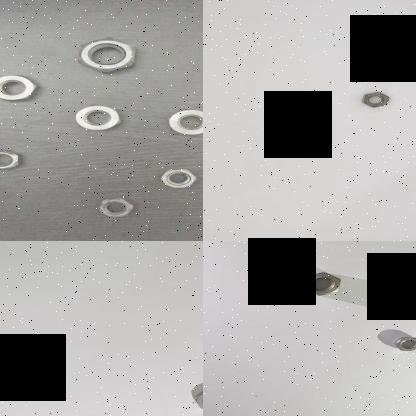NUTS: (77, 34, 137, 72), (70, 100, 126, 134), (0, 68, 40, 103), (300, 269, 344, 297), (94, 194, 140, 218), (156, 166, 202, 188), (167, 106, 203, 134), (360, 90, 392, 110), (0, 146, 23, 170), (392, 334, 416, 352), (403, 278, 416, 302), (190, 389, 203, 411)
